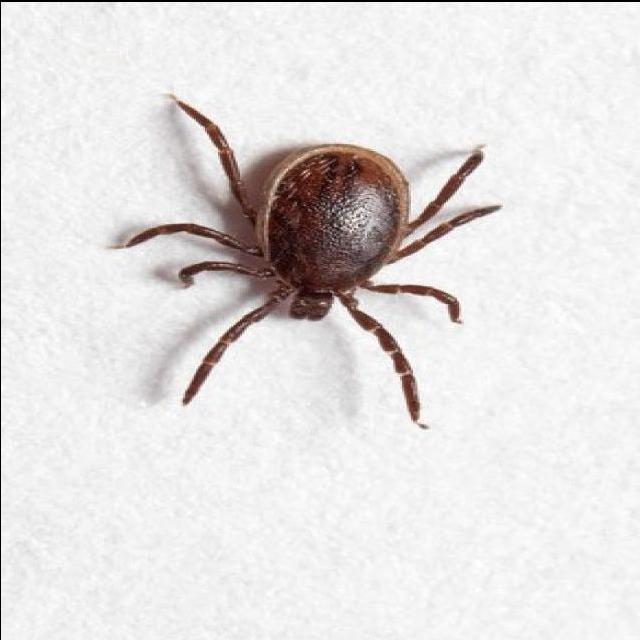Ixodes Ricinus-M: (112, 95, 498, 429)
